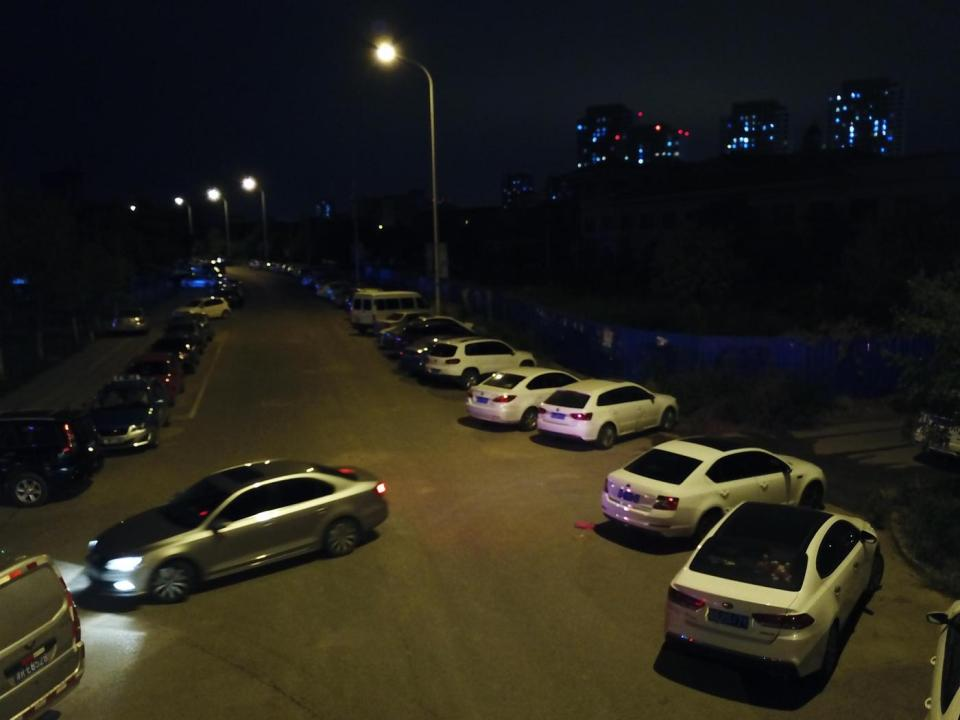car: (646, 488, 890, 696), (81, 455, 390, 604), (599, 435, 827, 542), (534, 378, 679, 452), (0, 408, 106, 507), (464, 362, 590, 430), (86, 373, 170, 452), (421, 336, 540, 385), (401, 333, 497, 375), (379, 316, 477, 354), (123, 353, 187, 407), (370, 306, 456, 346), (382, 320, 477, 355), (152, 333, 206, 370), (162, 319, 211, 358), (109, 304, 154, 336), (179, 296, 232, 322), (172, 312, 214, 339), (331, 289, 367, 308), (315, 282, 352, 300), (181, 273, 216, 288)
van: (349, 287, 435, 332)
